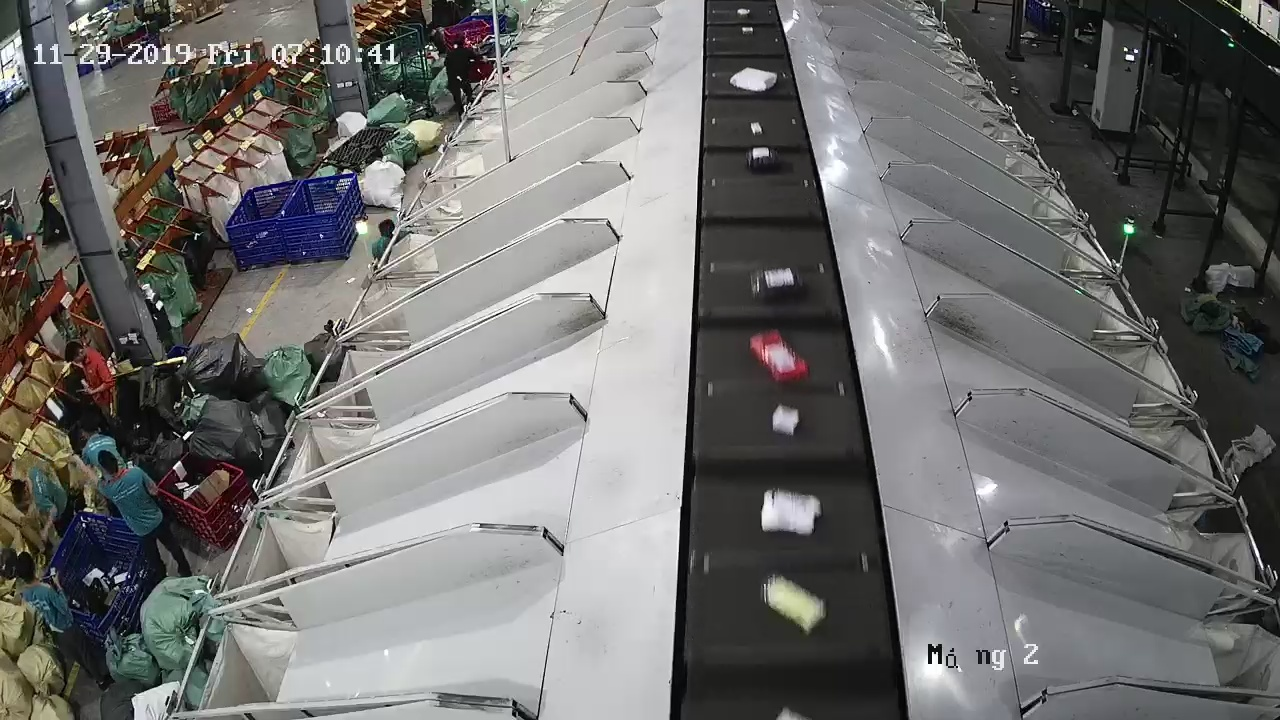parcel: (766, 576, 826, 636), (750, 331, 810, 384), (760, 488, 821, 537), (749, 265, 804, 301), (745, 146, 779, 171), (772, 404, 799, 435), (751, 121, 763, 136)
